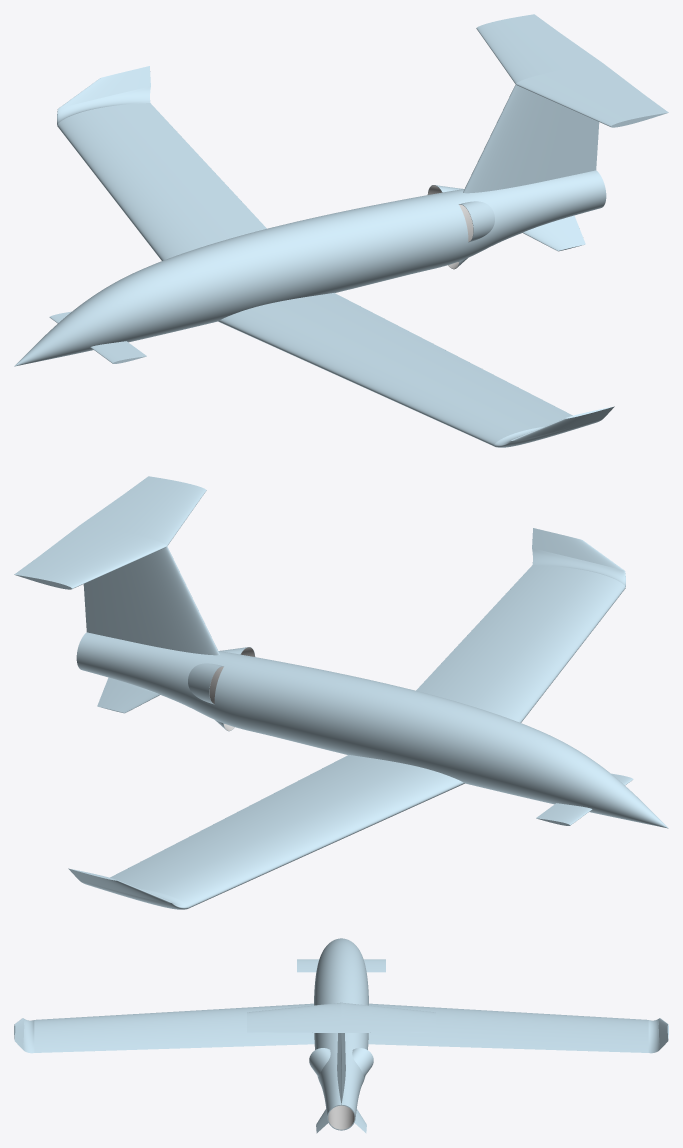
The model's file is Arc Knight Mk3.gltf.
3 views of the same model, one above another, from view 1: azimuth 30°, elevation 25°; view 2: azimuth 150°, elevation 25°; view 3: azimuth 270°, elevation 25° (orthographic). The views are drawn at different scales.
Visible parts, largest first — view 1: Arc MK3; view 2: Arc MK3; view 3: Arc MK3.
Boxes of the visible parts, <box> form: Arc MK3: <box>14,14,668,447</box>; Arc MK3: <box>14,476,668,909</box>; Arc MK3: <box>14,938,668,1133</box>.
Bounding box in the file's own units: 1.01 × 0.2812 × 1.39.
